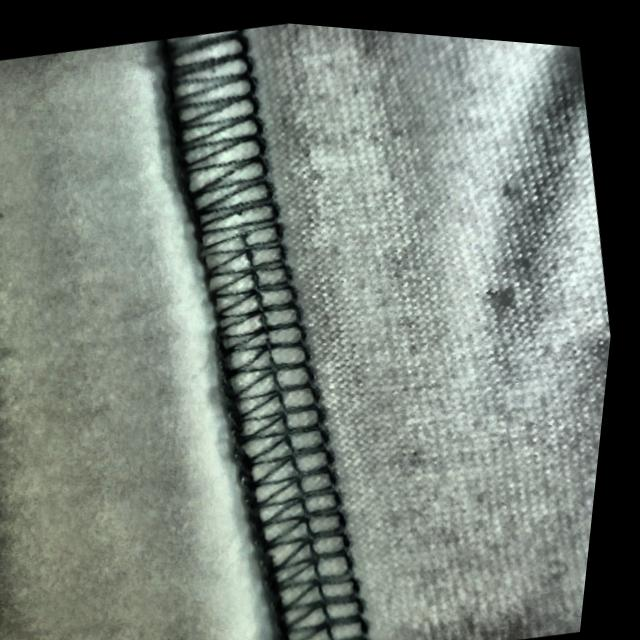Stitch: (135, 13, 353, 411)
